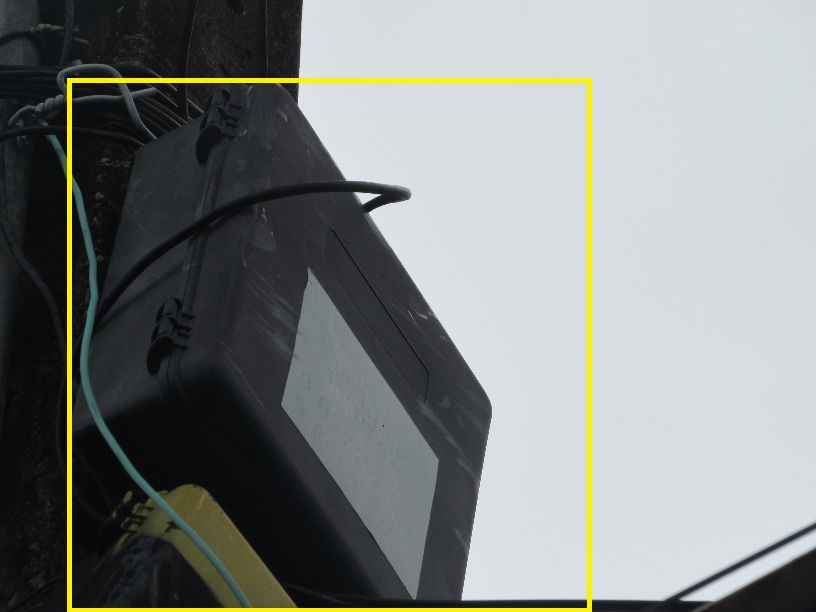caixa_derivacao: (82, 109, 527, 612)
